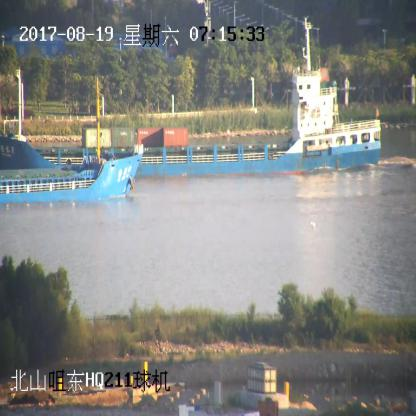Bulk Carrier: (0, 47, 380, 179), (0, 76, 144, 202)
